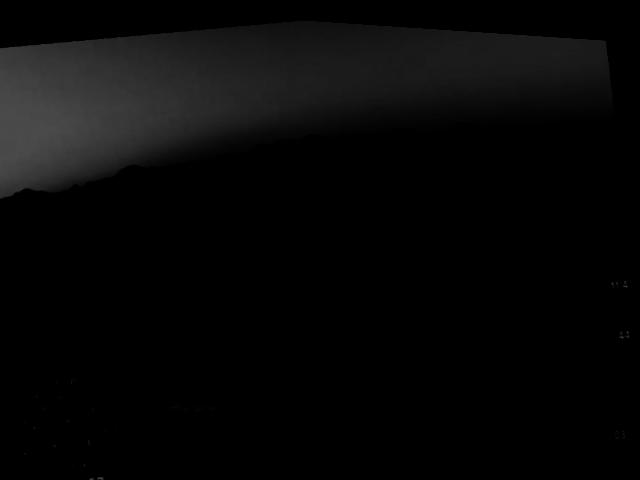hedef: (160, 386, 228, 426), (305, 353, 352, 387)
